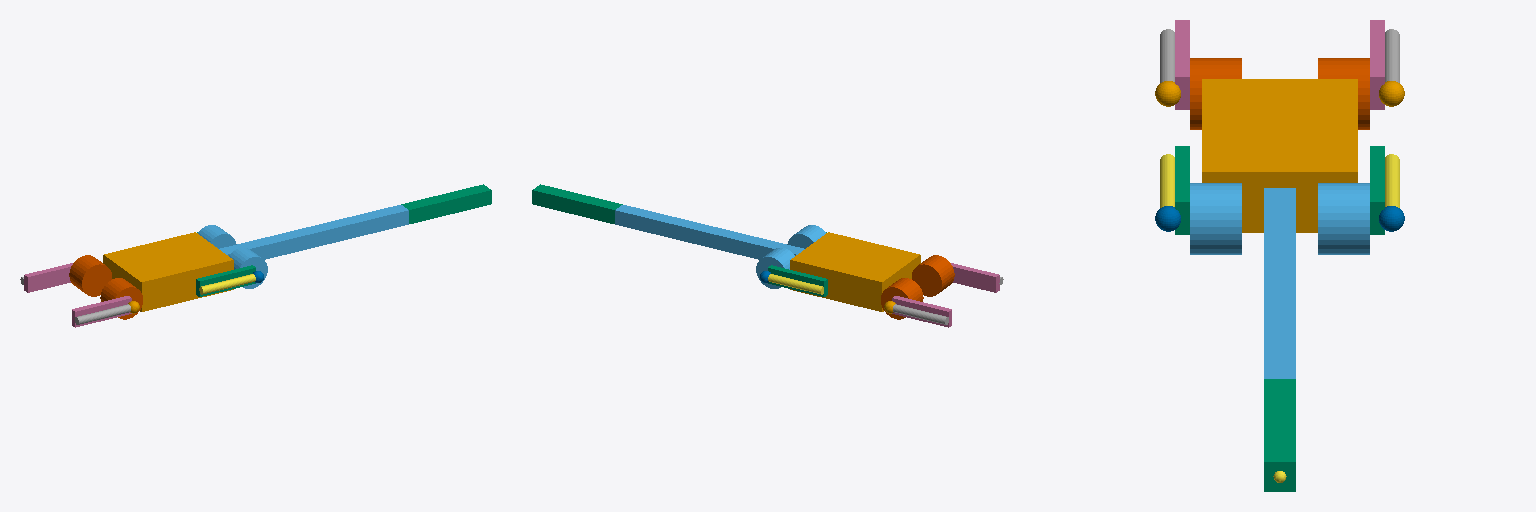
--- What the picture shows (computed from the rendered views, not written in the file) ---
3 views of the same robot in one strip: view 1: azimuth 30°, elevation 25°; view 2: azimuth 150°, elevation 25°; view 3: azimuth 270°, elevation 25° (orthographic).
Model spirit with 20 links and 19 joints (14 revolute, 5 fixed), rooted at body, posed all joints at 0.
Links seen in each view (by area): view 1: body, tail_link_0, tail_link_1, hip1, upper1, hip3, hip2, upper2, upper3, hip0; view 2: body, tail_link_0, tail_link_1, hip3, upper3, hip1, upper0, hip0, upper1, hip2; view 3: body, tail_link_0, hip0, hip2, tail_link_1, hip1, hip3, upper1, upper3, upper0, upper2, lower0 (+7 smaller).
Link boxes in pixels (x1,y1,x2,y2): body: (103, 232, 233, 311); tail_link_0: (219, 205, 408, 259); tail_link_1: (401, 184, 491, 223); hip1: (69, 255, 111, 296); upper1: (24, 263, 72, 292); hip3: (100, 278, 142, 319); hip2: (229, 248, 267, 288); upper2: (196, 265, 255, 296); upper3: (72, 296, 131, 327); hip0: (198, 225, 236, 248); body: (790, 232, 920, 311); tail_link_0: (615, 205, 804, 259); tail_link_1: (532, 184, 622, 223); hip3: (912, 255, 954, 296); upper3: (951, 263, 999, 292); hip1: (881, 278, 923, 319); upper0: (768, 265, 827, 296); hip0: (756, 248, 794, 288); upper1: (892, 296, 951, 327); hip2: (787, 225, 825, 248); body: (1202, 79, 1357, 232); tail_link_0: (1264, 188, 1295, 378); hip0: (1318, 183, 1369, 254); hip2: (1190, 183, 1241, 254); tail_link_1: (1264, 379, 1295, 491); hip1: (1318, 58, 1369, 129); hip3: (1190, 58, 1241, 129); upper1: (1370, 20, 1384, 109); upper3: (1175, 20, 1189, 109); upper0: (1370, 146, 1384, 234); upper2: (1175, 146, 1189, 234); lower0: (1385, 154, 1399, 207).
Bounding box of the posed robot: 1.6 × 0.382 × 0.11 m (x, y, z).
Geometry: primitives only (box / cylinder / sphere), no mesh files.

The robot description file, URDF, robot "spirit":
<?xml version="1.0" encoding="utf-8"?>
<!-- =================================================================================== -->
<!-- |    This document was autogenerated by xacro from working_gazebo.urdf.xacro      | -->
<!-- |    EDITING THIS FILE BY HAND IS NOT RECOMMENDED                                 | -->
<!-- =================================================================================== -->
<!-- 
MIT License (modified)

Copyright (c) 2020 Ghost Robotics
Authors:
Avik De <[email redacted]>
Tom Jacobs <[email redacted]>

Permission is hereby granted, free of charge, to any person obtaining a copy
of this **file** (the "Software"), to deal
in the Software without restriction, including without limitation the rights
to use, copy, modify, merge, publish, distribute, sublicense, and/or sell
copies of the Software, and to permit persons to whom the Software is
furnished to do so, subject to the following conditions:

The above copyright notice and this permission notice shall be included in all
copies or substantial portions of the Software.

THE SOFTWARE IS PROVIDED "AS IS", WITHOUT WARRANTY OF ANY KIND, EXPRESS OR
IMPLIED, INCLUDING BUT NOT LIMITED TO THE WARRANTIES OF MERCHANTABILITY,
FITNESS FOR A PARTICULAR PURPOSE AND NONINFRINGEMENT. IN NO EVENT SHALL THE
AUTHORS OR COPYRIGHT HOLDERS BE LIABLE FOR ANY CLAIM, DAMAGES OR OTHER
LIABILITY, WHETHER IN AN ACTION OF CONTRACT, TORT OR OTHERWISE, ARISING FROM,
OUT OF OR IN CONNECTION WITH THE SOFTWARE OR THE USE OR OTHER DEALINGS IN THE
SOFTWARE. 
-->
<robot name="spirit">
  <!-- Body -->
  <link name="body">
    <visual>
      <origin rpy="0 0 0" xyz="0 0 0"/>
      <geometry>
        <box size="0.335 0.24 0.104"/>
      </geometry>
      <material name="darkgray"/>
    </visual>
    <inertial>
      <mass value="5.75"/>
      <!-- Uniform box -->
      <!-- <inertia ixx="1/12*${bodyMass}*(${bodyWidth}*${bodyWidth} + ${bodyHeight}*${bodyHeight})"  ixy="0"  ixz="0" iyy="1/12*${bodyMass}*(${bodyLength}*${bodyLength} + ${bodyHeight}*${bodyHeight})" iyz="0" izz="1/12*${bodyMass}*(${bodyLength}*${bodyLength} + ${bodyWidth}*${bodyWidth})"/> -->
      <inertia ixx="0.05" ixy="0" ixz="0" iyy="0.1" iyz="0" izz="0.1"/>
    </inertial>
    <!-- Just copy geometry for collision -->
    <collision>
      <origin rpy="0 0 0" xyz="0 0 0"/>
      <geometry>
        <box size="0.335 0.24 0.104"/>
      </geometry>
    </collision>
  </link>
  <gazebo reference="body">
    <material>Gazebo/Black</material>
  </gazebo>
  <!-- Define our leg macro -->
  <!-- Hip motor -->
  <link name="hip0">
    <visual>
      <origin rpy="1.5707963268 0 0" xyz="0 0.028 0"/>
      <geometry>
        <cylinder length="0.08" radius="0.055"/>
      </geometry>
    </visual>
    <collision>
      <origin rpy="1.5707963268 0 0" xyz="0 0.028 0"/>
      <geometry>
        <cylinder length="0.08" radius="0.055"/>
      </geometry>
    </collision>
    <inertial>
      <mass value="0.575"/>
      <!-- <inertia ixx="1/12*${podMass}*${podLength}*${podLength} + 1/4*${podMass}*${podRadius}*${podRadius}"  ixy="0"  ixz="0" iyy="1/12*${podMass}*${podLength}*${podLength} + 1/4*${podMass}*${podRadius}*${podRadius}" iyz="0" izz="1/2*${podMass}*${podRadius}*$
				{podRadius}" /> -->
      <inertia ixx="0.00066963541" ixy="0" ixz="0" iyy="0.00066963541" iyz="0" izz="0.0008696875"/>
    </inertial>
  </link>
  <gazebo reference="hip0">
    <material>Gazebo/Grey</material>
  </gazebo>
  <!-- Abduction joint. Joint names are: 8 9 10 11 -->
  <joint name="8" type="revolute">
    <parent link="body"/>
    <child link="hip0"/>
    <axis xyz="1 0 0"/>
    <origin xyz="0.2263 0.07 0"/>
    <limit effort="40" lower="-0.707" upper="0.707" velocity="30"/>
    <dynamics damping="0.0" friction="0.0"/>
  </joint>
  <!-- Transmission elements required for Gazebo -->
  <transmission name="transmission_8">
    <type>transmission_interface/SimpleTransmission</type>
    <joint name="8">
      <hardwareInterface>hardware_interface/EffortJointInterface</hardwareInterface>
    </joint>
    <actuator name="motor_8">
      <hardwareInterface>EffortJointInterface</hardwareInterface>
      <mechanicalReduction>1</mechanicalReduction>
    </actuator>
  </transmission>
  <!-- Upper leg -->
  <link name="upper0">
    <visual>
      <origin rpy="0 0 0" xyz="-0.103 -0.022 0"/>
      <geometry>
        <box size="0.206 0.022 0.055"/>
      </geometry>
      <material name="silver"/>
    </visual>
    <collision>
      <origin rpy="0 0 0" xyz="-0.103 -0.022 0"/>
      <geometry>
        <box size="0.206 0.022 0.055"/>
      </geometry>
    </collision>
    <inertial>
      <mass value="0.775"/>
      <inertia ixx="5e-05" ixy="0" ixz="0" iyy="0.001" iyz="0" izz="0.001"/>
    </inertial>
  </link>
  <gazebo reference="upper0">
    <material>Gazebo/DarkGrey</material>
  </gazebo>
  <!-- Hip joint. (Motor to upper leg). Joint names are: 0 2 4 6 -->
  <joint name="0" type="revolute">
    <parent link="hip0"/>
    <child link="upper0"/>
    <axis xyz="0 -1 0"/>
    <origin xyz="0 0.10098 0"/>
    <!--  rpy="0 -0.3 0" -->
    <limit effort="40" lower="-6.28318530718" upper="6.28318530718" velocity="30"/>
    <dynamics damping="0.0" friction="0.0"/>
  </joint>
  <!-- Transmission elements required for Gazebo -->
  <transmission name="transmission_0">
    <type>transmission_interface/SimpleTransmission</type>
    <joint name="0">
      <hardwareInterface>hardware_interface/EffortJointInterface</hardwareInterface>
    </joint>
    <actuator name="motor_0">
      <hardwareInterface>EffortJointInterface</hardwareInterface>
      <mechanicalReduction>1</mechanicalReduction>
    </actuator>
  </transmission>
  <!-- Lower leg -->
  <link name="lower0">
    <visual>
      <origin rpy="0 1.5707963268 0" xyz="0.103 0 0"/>
      <geometry>
        <cylinder length="0.206" radius="0.013"/>
      </geometry>
      <material name="darkgray"/>
    </visual>
    <collision>
      <origin rpy="0 1.5707963268 0" xyz="0.103 0 0"/>
      <geometry>
        <cylinder length="0.206" radius="0.013"/>
      </geometry>
    </collision>
    <inertial>
      <mass value="0.075"/>
      <inertia ixx="5e-06" ixy="0" ixz="0" iyy="0.0001" iyz="0" izz="0.0001"/>
    </inertial>
  </link>
  <gazebo reference="lower0">
    <material>Gazebo/Grey</material>
  </gazebo>
  <!-- Knee joint. Joint names are: 1 3 5 7 -->
  <joint name="1" type="revolute">
    <parent link="upper0"/>
    <child link="lower0"/>
    <axis xyz="0 1 0"/>
    <origin xyz="-0.206 0 0"/>
    <!--rpy="0 0.5 0"-->
    <limit effort="40" lower="0" upper="3.14159265359" velocity="30"/>
    <dynamics damping="0.0" friction="0.0"/>
  </joint>
  <!-- Transmission elements required for Gazebo -->
  <transmission name="transmission_1">
    <type>transmission_interface/SimpleTransmission</type>
    <joint name="1">
      <hardwareInterface>hardware_interface/EffortJointInterface</hardwareInterface>
    </joint>
    <actuator name="motor_1">
      <hardwareInterface>EffortJointInterface</hardwareInterface>
      <mechanicalReduction>1</mechanicalReduction>
    </actuator>
  </transmission>
  <!-- Toe -->
  <link name="toe0">
    <contact>
      <friction_anchor/>
      <stiffness value="30000.0"/>
      <damping value="1000.0"/>
      <spinning_friction value="0.3"/>
      <lateral_friction value="50.0"/>
    </contact>
    <visual>
      <origin rpy="0 0 0" xyz="0 0 0"/>
      <geometry>
        <sphere radius="0.02"/>
      </geometry>
      <material name="darkgray"/>
    </visual>
    <collision>
      <origin rpy="0 0 0" xyz="0 0 0"/>
      <geometry>
        <sphere radius="0.02"/>
      </geometry>
    </collision>
    <inertial>
      <mass value="0.015"/>
      <inertia ixx="0.000025" ixy="0" ixz="0" iyy="0.000025" iyz="0" izz="0.000025"/>
      <!-- <inertia ixx="2/5*${toeMass}*${toeRadius}*${toeRadius}"  ixy="0"  ixz="0" iyy="2/5*${toeMass}*${toeRadius}*${toeRadius}" iyz="0" izz="2/5*${toeMass}*${toeRadius}*${toeRadius}" /> -->
    </inertial>
  </link>
  <gazebo reference="toe0">
    <material>Gazebo/Black</material>
    <collision>
      <surface>
        <bounce>
          <restitution_coefficient>0</restitution_coefficient>
          <threshold>1e+06</threshold>
        </bounce>
        <friction>
          <torsional>
            <coefficient>0.3</coefficient>
          </torsional>
          <ode>
            <mu>100.0</mu>
            <mu2>50.0</mu2>
          </ode>
          <bullet>
            <rolling_friction>0.3</rolling_friction>
            <friction2>50.0</friction2>
          </bullet>
        </friction>
        <contact>
          <bullet>
            <kp>30000.0</kp>
            <kd>1000.0</kd>
          </bullet>
          <ode>
            <kp>30000.0</kp>
            <kd>1000.0</kd>
          </ode>
        </contact>
      </surface>
    </collision>
  </gazebo>
  <joint name="jtoe0" type="fixed">
    <parent link="lower0"/>
    <child link="toe0"/>
    <origin xyz="0.206 0 -0.0"/>
    <dynamics damping="0.0" friction="0.0"/>
  </joint>
  <!-- Hip motor -->
  <link name="hip1">
    <visual>
      <origin rpy="1.5707963268 0 0" xyz="0 0.028 0"/>
      <geometry>
        <cylinder length="0.08" radius="0.055"/>
      </geometry>
    </visual>
    <collision>
      <origin rpy="1.5707963268 0 0" xyz="0 0.028 0"/>
      <geometry>
        <cylinder length="0.08" radius="0.055"/>
      </geometry>
    </collision>
    <inertial>
      <mass value="0.575"/>
      <!-- <inertia ixx="1/12*${podMass}*${podLength}*${podLength} + 1/4*${podMass}*${podRadius}*${podRadius}"  ixy="0"  ixz="0" iyy="1/12*${podMass}*${podLength}*${podLength} + 1/4*${podMass}*${podRadius}*${podRadius}" iyz="0" izz="1/2*${podMass}*${podRadius}*$
				{podRadius}" /> -->
      <inertia ixx="0.00066963541" ixy="0" ixz="0" iyy="0.00066963541" iyz="0" izz="0.0008696875"/>
    </inertial>
  </link>
  <gazebo reference="hip1">
    <material>Gazebo/Grey</material>
  </gazebo>
  <!-- Abduction joint. Joint names are: 8 9 10 11 -->
  <joint name="9" type="revolute">
    <parent link="body"/>
    <child link="hip1"/>
    <axis xyz="1 0 0"/>
    <origin xyz="-0.2263 0.07 0"/>
    <limit effort="40" lower="-0.707" upper="0.707" velocity="30"/>
    <dynamics damping="0.0" friction="0.0"/>
  </joint>
  <!-- Transmission elements required for Gazebo -->
  <transmission name="transmission_9">
    <type>transmission_interface/SimpleTransmission</type>
    <joint name="9">
      <hardwareInterface>hardware_interface/EffortJointInterface</hardwareInterface>
    </joint>
    <actuator name="motor_9">
      <hardwareInterface>EffortJointInterface</hardwareInterface>
      <mechanicalReduction>1</mechanicalReduction>
    </actuator>
  </transmission>
  <!-- Upper leg -->
  <link name="upper1">
    <visual>
      <origin rpy="0 0 0" xyz="-0.103 -0.022 0"/>
      <geometry>
        <box size="0.206 0.022 0.055"/>
      </geometry>
      <material name="silver"/>
    </visual>
    <collision>
      <origin rpy="0 0 0" xyz="-0.103 -0.022 0"/>
      <geometry>
        <box size="0.206 0.022 0.055"/>
      </geometry>
    </collision>
    <inertial>
      <mass value="0.775"/>
      <inertia ixx="5e-05" ixy="0" ixz="0" iyy="0.001" iyz="0" izz="0.001"/>
    </inertial>
  </link>
  <gazebo reference="upper1">
    <material>Gazebo/DarkGrey</material>
  </gazebo>
  <!-- Hip joint. (Motor to upper leg). Joint names are: 0 2 4 6 -->
  <joint name="2" type="revolute">
    <parent link="hip1"/>
    <child link="upper1"/>
    <axis xyz="0 -1 0"/>
    <origin xyz="0 0.10098 0"/>
    <!--  rpy="0 -0.3 0" -->
    <limit effort="40" lower="-6.28318530718" upper="6.28318530718" velocity="30"/>
    <dynamics damping="0.0" friction="0.0"/>
  </joint>
  <!-- Transmission elements required for Gazebo -->
  <transmission name="transmission_2">
    <type>transmission_interface/SimpleTransmission</type>
    <joint name="2">
      <hardwareInterface>hardware_interface/EffortJointInterface</hardwareInterface>
    </joint>
    <actuator name="motor_2">
      <hardwareInterface>EffortJointInterface</hardwareInterface>
      <mechanicalReduction>1</mechanicalReduction>
    </actuator>
  </transmission>
  <!-- Lower leg -->
  <link name="lower1">
    <visual>
      <origin rpy="0 1.5707963268 0" xyz="0.103 0 0"/>
      <geometry>
        <cylinder length="0.206" radius="0.013"/>
      </geometry>
      <material name="darkgray"/>
    </visual>
    <collision>
      <origin rpy="0 1.5707963268 0" xyz="0.103 0 0"/>
      <geometry>
        <cylinder length="0.206" radius="0.013"/>
      </geometry>
    </collision>
    <inertial>
      <mass value="0.075"/>
      <inertia ixx="5e-06" ixy="0" ixz="0" iyy="0.0001" iyz="0" izz="0.0001"/>
    </inertial>
  </link>
  <gazebo reference="lower1">
    <material>Gazebo/Grey</material>
  </gazebo>
  <!-- Knee joint. Joint names are: 1 3 5 7 -->
  <joint name="3" type="revolute">
    <parent link="upper1"/>
    <child link="lower1"/>
    <axis xyz="0 1 0"/>
    <origin xyz="-0.206 0 0"/>
    <!--rpy="0 0.5 0"-->
    <limit effort="40" lower="0" upper="3.14159265359" velocity="30"/>
    <dynamics damping="0.0" friction="0.0"/>
  </joint>
  <!-- Transmission elements required for Gazebo -->
  <transmission name="transmission_3">
    <type>transmission_interface/SimpleTransmission</type>
    <joint name="3">
      <hardwareInterface>hardware_interface/EffortJointInterface</hardwareInterface>
    </joint>
    <actuator name="motor_3">
      <hardwareInterface>EffortJointInterface</hardwareInterface>
      <mechanicalReduction>1</mechanicalReduction>
    </actuator>
  </transmission>
  <!-- Toe -->
  <link name="toe1">
    <contact>
      <friction_anchor/>
      <stiffness value="30000.0"/>
      <damping value="1000.0"/>
      <spinning_friction value="0.3"/>
      <lateral_friction value="50.0"/>
    </contact>
    <visual>
      <origin rpy="0 0 0" xyz="0 0 0"/>
      <geometry>
        <sphere radius="0.02"/>
      </geometry>
      <material name="darkgray"/>
    </visual>
    <collision>
      <origin rpy="0 0 0" xyz="0 0 0"/>
      <geometry>
        <sphere radius="0.02"/>
      </geometry>
    </collision>
    <inertial>
      <mass value="0.015"/>
      <inertia ixx="0.000025" ixy="0" ixz="0" iyy="0.000025" iyz="0" izz="0.000025"/>
      <!-- <inertia ixx="2/5*${toeMass}*${toeRadius}*${toeRadius}"  ixy="0"  ixz="0" iyy="2/5*${toeMass}*${toeRadius}*${toeRadius}" iyz="0" izz="2/5*${toeMass}*${toeRadius}*${toeRadius}" /> -->
    </inertial>
  </link>
  <gazebo reference="toe1">
    <material>Gazebo/Black</material>
    <collision>
      <surface>
        <bounce>
          <restitution_coefficient>0</restitution_coefficient>
          <threshold>1e+06</threshold>
        </bounce>
        <friction>
          <torsional>
            <coefficient>0.3</coefficient>
          </torsional>
          <ode>
            <mu>100.0</mu>
            <mu2>50.0</mu2>
          </ode>
          <bullet>
            <rolling_friction>0.3</rolling_friction>
            <friction2>50.0</friction2>
          </bullet>
        </friction>
        <contact>
          <bullet>
            <kp>30000.0</kp>
            <kd>1000.0</kd>
          </bullet>
          <ode>
            <kp>30000.0</kp>
            <kd>1000.0</kd>
          </ode>
        </contact>
      </surface>
    </collision>
  </gazebo>
  <joint name="jtoe1" type="fixed">
    <parent link="lower1"/>
    <child link="toe1"/>
    <origin xyz="0.206 0 -0.0"/>
    <dynamics damping="0.0" friction="0.0"/>
  </joint>
  <!-- Hip motor -->
  <link name="hip2">
    <visual>
      <origin rpy="1.5707963268 0 0" xyz="0 -0.028 0"/>
      <geometry>
        <cylinder length="0.08" radius="0.055"/>
      </geometry>
    </visual>
    <collision>
      <origin rpy="1.5707963268 0 0" xyz="0 -0.028 0"/>
      <geometry>
        <cylinder length="0.08" radius="0.055"/>
      </geometry>
    </collision>
    <inertial>
      <mass value="0.575"/>
      <!-- <inertia ixx="1/12*${podMass}*${podLength}*${podLength} + 1/4*${podMass}*${podRadius}*${podRadius}"  ixy="0"  ixz="0" iyy="1/12*${podMass}*${podLength}*${podLength} + 1/4*${podMass}*${podRadius}*${podRadius}" iyz="0" izz="1/2*${podMass}*${podRadius}*$
				{podRadius}" /> -->
      <inertia ixx="0.00066963541" ixy="0" ixz="0" iyy="0.00066963541" iyz="0" izz="0.0008696875"/>
    </inertial>
  </link>
  <gazebo reference="hip2">
    <material>Gazebo/Grey</material>
  </gazebo>
  <!-- Abduction joint. Joint names are: 8 9 10 11 -->
  <joint name="10" type="revolute">
    <parent link="body"/>
    <child link="hip2"/>
    <axis xyz="1 0 0"/>
    <origin xyz="0.2263 -0.07 0"/>
    <limit effort="40" lower="-0.707" upper="0.707" velocity="30"/>
    <dynamics damping="0.0" friction="0.0"/>
  </joint>
  <!-- Transmission elements required for Gazebo -->
  <transmission name="transmission_10">
    <type>transmission_interface/SimpleTransmission</type>
    <joint name="10">
      <hardwareInterface>hardware_interface/EffortJointInterface</hardwareInterface>
    </joint>
    <actuator name="motor_10">
      <hardwareInterface>EffortJointInterface</hardwareInterface>
      <mechanicalReduction>1</mechanicalReduction>
    </actuator>
  </transmission>
  <!-- Upper leg -->
  <link name="upper2">
    <visual>
      <origin rpy="0 0 0" xyz="-0.103 0.022 0"/>
      <geometry>
        <box size="0.206 0.022 0.055"/>
      </geometry>
      <material name="silver"/>
    </visual>
    <collision>
      <origin rpy="0 0 0" xyz="-0.103 0.022 0"/>
      <geometry>
        <box size="0.206 0.022 0.055"/>
      </geometry>
    </collision>
    <inertial>
      <mass value="0.775"/>
      <inertia ixx="5e-05" ixy="0" ixz="0" iyy="0.001" iyz="0" izz="0.001"/>
    </inertial>
  </link>
  <gazebo reference="upper2">
    <material>Gazebo/DarkGrey</material>
  </gazebo>
  <!-- Hip joint. (Motor to upper leg). Joint names are: 0 2 4 6 -->
  <joint name="4" type="revolute">
    <parent link="hip2"/>
    <child link="upper2"/>
    <axis xyz="0 -1 0"/>
    <origin xyz="0 -0.10098 0"/>
    <!--  rpy="0 -0.3 0" -->
    <limit effort="40" lower="-6.28318530718" upper="6.28318530718" velocity="30"/>
    <dynamics damping="0.0" friction="0.0"/>
  </joint>
  <!-- Transmission elements required for Gazebo -->
  <transmission name="transmission_4">
    <type>transmission_interface/SimpleTransmission</type>
    <joint name="4">
      <hardwareInterface>hardware_interface/EffortJointInterface</hardwareInterface>
    </joint>
    <actuator name="motor_4">
      <hardwareInterface>EffortJointInterface</hardwareInterface>
      <mechanicalReduction>1</mechanicalReduction>
    </actuator>
  </transmission>
  <!-- Lower leg -->
  <link name="lower2">
    <visual>
      <origin rpy="0 1.5707963268 0" xyz="0.103 0 0"/>
      <geometry>
        <cylinder length="0.206" radius="0.013"/>
      </geometry>
      <material name="darkgray"/>
    </visual>
    <collision>
      <origin rpy="0 1.5707963268 0" xyz="0.103 0 0"/>
      <geometry>
        <cylinder length="0.206" radius="0.013"/>
      </geometry>
    </collision>
    <inertial>
      <mass value="0.075"/>
      <inertia ixx="5e-06" ixy="0" ixz="0" iyy="0.0001" iyz="0" izz="0.0001"/>
    </inertial>
  </link>
  <gazebo reference="lower2">
    <material>Gazebo/Grey</material>
  </gazebo>
  <!-- Knee joint. Joint names are: 1 3 5 7 -->
  <joint name="5" type="revolute">
    <parent link="upper2"/>
    <child link="lower2"/>
    <axis xyz="0 1 0"/>
    <origin xyz="-0.206 0 0"/>
    <!--rpy="0 0.5 0"-->
    <limit effort="40" lower="0" upper="3.14159265359" velocity="30"/>
    <dynamics damping="0.0" friction="0.0"/>
  </joint>
  <!-- Transmission elements required for Gazebo -->
  <transmission name="transmission_5">
    <type>transmission_interface/SimpleTransmission</type>
    <joint name="5">
      <hardwareInterface>hardware_interface/EffortJointInterface</hardwareInterface>
    </joint>
    <actuator name="motor_5">
      <hardwareInterface>EffortJointInterface</hardwareInterface>
      <mechanicalReduction>1</mechanicalReduction>
    </actuator>
  </transmission>
  <!-- Toe -->
  <link name="toe2">
    <contact>
      <friction_anchor/>
      <stiffness value="30000.0"/>
      <damping value="1000.0"/>
      <spinning_friction value="0.3"/>
      <lateral_friction value="50.0"/>
    </contact>
    <visual>
      <origin rpy="0 0 0" xyz="0 0 0"/>
      <geometry>
        <sphere radius="0.02"/>
      </geometry>
      <material name="darkgray"/>
    </visual>
    <collision>
      <origin rpy="0 0 0" xyz="0 0 0"/>
      <geometry>
        <sphere radius="0.02"/>
      </geometry>
    </collision>
    <inertial>
      <mass value="0.015"/>
      <inertia ixx="0.000025" ixy="0" ixz="0" iyy="0.000025" iyz="0" izz="0.000025"/>
      <!-- <inertia ixx="2/5*${toeMass}*${toeRadius}*${toeRadius}"  ixy="0"  ixz="0" iyy="2/5*${toeMass}*${toeRadius}*${toeRadius}" iyz="0" izz="2/5*${toeMass}*${toeRadius}*${toeRadius}" /> -->
    </inertial>
  </link>
  <gazebo reference="toe2">
    <material>Gazebo/Black</material>
    <collision>
      <surface>
        <bounce>
          <restitution_coefficient>0</restitution_coefficient>
          <threshold>1e+06</threshold>
        </bounce>
        <friction>
          <torsional>
            <coefficient>0.3</coefficient>
          </torsional>
          <ode>
            <mu>100.0</mu>
            <mu2>50.0</mu2>
          </ode>
          <bullet>
            <rolling_friction>0.3</rolling_friction>
            <friction2>50.0</friction2>
          </bullet>
        </friction>
        <contact>
          <bullet>
            <kp>30000.0</kp>
            <kd>1000.0</kd>
          </bullet>
          <ode>
            <kp>30000.0</kp>
            <kd>1000.0</kd>
          </ode>
        </contact>
      </surface>
    </collision>
  </gazebo>
  <joint name="jtoe2" type="fixed">
    <parent link="lower2"/>
    <child link="toe2"/>
    <origin xyz="0.206 0 -0.0"/>
    <dynamics damping="0.0" friction="0.0"/>
  </joint>
  <!-- Hip motor -->
  <link name="hip3">
    <visual>
      <origin rpy="1.5707963268 0 0" xyz="0 -0.028 0"/>
      <geometry>
        <cylinder length="0.08" radius="0.055"/>
      </geometry>
    </visual>
    <collision>
      <origin rpy="1.5707963268 0 0" xyz="0 -0.028 0"/>
      <geometry>
        <cylinder length="0.08" radius="0.055"/>
      </geometry>
    </collision>
    <inertial>
      <mass value="0.575"/>
      <!-- <inertia ixx="1/12*${podMass}*${podLength}*${podLength} + 1/4*${podMass}*${podRadius}*${podRadius}"  ixy="0"  ixz="0" iyy="1/12*${podMass}*${podLength}*${podLength} + 1/4*${podMass}*${podRadius}*${podRadius}" iyz="0" izz="1/2*${podMass}*${podRadius}*$
				{podRadius}" /> -->
      <inertia ixx="0.00066963541" ixy="0" ixz="0" iyy="0.00066963541" iyz="0" izz="0.0008696875"/>
    </inertial>
  </link>
  <gazebo reference="hip3">
    <material>Gazebo/Grey</material>
  </gazebo>
  <!-- Abduction joint. Joint names are: 8 9 10 11 -->
  <joint name="11" type="revolute">
    <parent link="body"/>
    <child link="hip3"/>
    <axis xyz="1 0 0"/>
    <origin xyz="-0.2263 -0.07 0"/>
    <limit effort="40" lower="-0.707" upper="0.707" velocity="30"/>
    <dynamics damping="0.0" friction="0.0"/>
  </joint>
  <!-- Transmission elements required for Gazebo -->
  <transmission name="transmission_11">
    <type>transmission_interface/SimpleTransmission</type>
    <joint name="11">
      <hardwareInterface>hardware_interface/EffortJointInterface</hardwareInterface>
    </joint>
    <actuator name="motor_11">
      <hardwareInterface>EffortJointInterface</hardwareInterface>
      <mechanicalReduction>1</mechanicalReduction>
    </actuator>
  </transmission>
  <!-- Upper leg -->
  <link name="upper3">
    <visual>
      <origin rpy="0 0 0" xyz="-0.103 0.022 0"/>
      <geometry>
        <box size="0.206 0.022 0.055"/>
      </geometry>
      <material name="silver"/>
    </visual>
    <collision>
      <origin rpy="0 0 0" xyz="-0.103 0.022 0"/>
      <geometry>
        <box size="0.206 0.022 0.055"/>
      </geometry>
    </collision>
    <inertial>
      <mass value="0.775"/>
      <inertia ixx="5e-05" ixy="0" ixz="0" iyy="0.001" iyz="0" izz="0.001"/>
    </inertial>
  </link>
  <gazebo reference="upper3">
    <material>Gazebo/DarkGrey</material>
  </gazebo>
  <!-- Hip joint. (Motor to upper leg). Joint names are: 0 2 4 6 -->
  <joint name="6" type="revolute">
    <parent link="hip3"/>
    <child link="upper3"/>
    <axis xyz="0 -1 0"/>
    <origin xyz="0 -0.10098 0"/>
    <!--  rpy="0 -0.3 0" -->
    <limit effort="40" lower="-6.28318530718" upper="6.28318530718" velocity="30"/>
    <dynamics damping="0.0" friction="0.0"/>
  </joint>
  <!-- Transmission elements required for Gazebo -->
  <transmission name="transmission_6">
    <type>transmission_interface/SimpleTransmission</type>
    <joint name="6">
      <hardwareInterface>hardware_interface/EffortJointInterface</hardwareInterface>
    </joint>
    <actuator name="motor_6">
      <hardwareInterface>EffortJointInterface</hardwareInterface>
      <mechanicalReduction>1</mechanicalReduction>
    </actuator>
  </transmission>
  <!-- Lower leg -->
  <link name="lower3">
    <visual>
      <origin rpy="0 1.5707963268 0" xyz="0.103 0 0"/>
      <geometry>
        <cylinder length="0.206" radius="0.013"/>
      </geometry>
      <material name="darkgray"/>
    </visual>
    <collision>
      <origin rpy="0 1.5707963268 0" xyz="0.103 0 0"/>
      <geometry>
        <cylinder length="0.206" radius="0.013"/>
      </geometry>
    </collision>
    <inertial>
      <mass value="0.075"/>
      <inertia ixx="5e-06" ixy="0" ixz="0" iyy="0.0001" iyz="0" izz="0.0001"/>
    </inertial>
  </link>
  <gazebo reference="lower3">
    <material>Gazebo/Grey</material>
  </gazebo>
  <!-- Knee joint. Joint names are: 1 3 5 7 -->
  <joint name="7" type="revolute">
    <parent link="upper3"/>
    <child link="lower3"/>
    <axis xyz="0 1 0"/>
    <origin xyz="-0.206 0 0"/>
    <!--rpy="0 0.5 0"-->
    <limit effort="40" lower="0" upper="3.14159265359" velocity="30"/>
    <dynamics damping="0.0" friction="0.0"/>
  </joint>
  <!-- Transmission elements required for Gazebo -->
  <transmission name="transmission_7">
    <type>transmission_interface/SimpleTransmission</type>
    <joint name="7">
      <hardwareInterface>hardware_interface/EffortJointInterface</hardwareInterface>
    </joint>
    <actuator name="motor_7">
      <hardwareInterface>EffortJointInterface</hardwareInterface>
      <mechanicalReduction>1</mechanicalReduction>
    </actuator>
  </transmission>
  <!-- Toe -->
  <link name="toe3">
    <contact>
      <friction_anchor/>
      <stiffness value="30000.0"/>
      <damping value="1000.0"/>
      <spinning_friction value="0.3"/>
      <lateral_friction value="50.0"/>
    </contact>
    <visual>
      <origin rpy="0 0 0" xyz="0 0 0"/>
      <geometry>
        <sphere radius="0.02"/>
      </geometry>
      <material name="darkgray"/>
    </visual>
    <collision>
      <origin rpy="0 0 0" xyz="0 0 0"/>
      <geometry>
        <sphere radius="0.02"/>
      </geometry>
    </collision>
    <inertial>
      <mass value="0.015"/>
      <inertia ixx="0.000025" ixy="0" ixz="0" iyy="0.000025" iyz="0" izz="0.000025"/>
      <!-- <inertia ixx="2/5*${toeMass}*${toeRadius}*${toeRadius}"  ixy="0"  ixz="0" iyy="2/5*${toeMass}*${toeRadius}*${toeRadius}" iyz="0" izz="2/5*${toeMass}*${toeRadius}*${toeRadius}" /> -->
    </inertial>
  </link>
  <gazebo reference="toe3">
    <material>Gazebo/Black</material>
    <collision>
      <surface>
        <bounce>
          <restitution_coefficient>0</restitution_coefficient>
          <threshold>1e+06</threshold>
        </bounce>
        <friction>
          <torsional>
            <coefficient>0.3</coefficient>
          </torsional>
          <ode>
            <mu>100.0</mu>
            <mu2>50.0</mu2>
          </ode>
          <bullet>
            <rolling_friction>0.3</rolling_friction>
            <friction2>50.0</friction2>
          </bullet>
        </friction>
        <contact>
          <bullet>
            <kp>30000.0</kp>
            <kd>1000.0</kd>
          </bullet>
          <ode>
            <kp>30000.0</kp>
            <kd>1000.0</kd>
          </ode>
        </contact>
      </surface>
    </collision>
  </gazebo>
  <joint name="jtoe3" type="fixed">
    <parent link="lower3"/>
    <child link="toe3"/>
    <origin xyz="0.206 0 -0.0"/>
    <dynamics damping="0.0" friction="0.0"/>
  </joint>
  <!--    CUSTOMIZED SECTIONS BELOW. NOT FROM GHOST ROBOTICS.    -->
  <!-- Neck or tail-->
  <link name="tail_link_0">
    <visual>
      <origin rpy="0 0 0" xyz="0.35 0 0"/>
      <geometry>
        <box size="0.7 0.05 0.05"/>
      </geometry>
      <material name="darkgray"/>
    </visual>
    <inertial>
      <origin rpy="0 0 0" xyz="0.35 0 0"/>
      <mass value="0.000175"/>
      <inertia ixx="0" ixy="0" ixz="0" iyy="0" iyz="0" izz="0"/>
    </inertial>
    <!-- Just copy geometry for collision -->
    <!-- <collision>
		<origin rpy="0 0 0" xyz="${0.5*neckLength1} 0 0"/>
			<geometry>
				<box size="${neckLength1} ${neckWidth} ${neckHeight}"/>
			</geometry>
		</collision> -->
  </link>
  <gazebo reference="tail_link_0">
    <material>Gazebo/Gray</material>
  </gazebo>
  <link name="tail_link_1">
    <visual>
      <origin rpy="0 0 0" xyz="0.15 0 0"/>
      <geometry>
        <box size="0.3 0.05 0.05"/>
      </geometry>
      <material name="darkgray"/>
    </visual>
    <inertial>
      <origin rpy="0 0 0" xyz="0.15 0 0"/>
      <mass value="7.5e-05"/>
      <inertia ixx="0.05" ixy="0" ixz="0" iyy="0.1" iyz="0" izz="0.1"/>
    </inertial>
    <!-- Just copy geometry for collision -->
    <!-- <collision>
		<origin rpy="0 0 0" xyz="${0.5*neckLength2} 0 0"/>
			<geometry>
				<box size="${neckLength2} ${neckWidth} ${neckHeight}"/>
			</geometry>
		</collision> -->
  </link>
  <gazebo reference="tail_link_1">
    <material>Gazebo/Gray</material>
  </gazebo>
  <link name="tail_mass">
    <visual>
      <origin rpy="0 0 0" xyz="0 0 0"/>
      <geometry>
        <sphere radius="0.01"/>
      </geometry>
      <material name="gray"/>
    </visual>
    <inertial>
      <origin rpy="0 0 0" xyz="0 0 0"/>
      <mass value="0.1"/>
      <inertia ixx="0" ixy="0" ixz="0" iyy="0" iyz="0" izz="0"/>
    </inertial>
    <collision>
      <origin rpy="0 0 0" xyz="0 0 0"/>
      <geometry>
        <box size="0.1 0.1 0.1"/>
      </geometry>
    </collision>
  </link>
  <gazebo reference="tail_mass">
    <material>Gazebo/Gray</material>
  </gazebo>
  <joint name="body_tail_joint_0" type="revolute">
    <parent link="body"/>
    <child link="tail_link_0"/>
    <axis xyz="0 1 0"/>
    <origin xyz="0.16 0 0"/>
    <limit effort="35" lower="-1.57" upper="1.57" velocity="1000000"/>
    <dynamics damping="0.0" friction="0.0"/>
  </joint>
  <!-- Transmission elements required for Gazebo -->
  <transmission name="transmission_body_tail_joint_0">
    <type>transmission_interface/SimpleTransmission</type>
    <joint name="body_tail_joint_0">
      <hardwareInterface>hardware_interface/EffortJointInterface</hardwareInterface>
    </joint>
    <actuator name="motor_body_tail_joint_0">
      <hardwareInterface>EffortJointInterface</hardwareInterface>
      <mechanicalReduction>1</mechanicalReduction>
    </actuator>
  </transmission>
  <joint name="body_tail_joint_1" type="revolute">
    <parent link="tail_link_0"/>
    <child link="tail_link_1"/>
    <axis xyz="0 1 0"/>
    <origin xyz="0.7 0 0"/>
    <limit effort="35" lower="-1.57" upper="1.57" velocity="1000000"/>
    <dynamics damping="0.0" friction="0.0"/>
  </joint>
  <!-- Transmission elements required for Gazebo -->
  <transmission name="transmission_body_tail_joint_1">
    <type>transmission_interface/SimpleTransmission</type>
    <joint name="body_tail_joint_1">
      <hardwareInterface>hardware_interface/EffortJointInterface</hardwareInterface>
    </joint>
    <actuator name="motor_body_tail_joint_1">
      <hardwareInterface>EffortJointInterface</hardwareInterface>
      <mechanicalReduction>1</mechanicalReduction>
    </actuator>
  </transmission>
  <joint name="tail_link_mass_joint" type="fixed">
    <parent link="tail_link_1"/>
    <child link="tail_mass"/>
    <origin xyz="0.3 0 0 "/>
    <dynamics damping="0.0" friction="0.0"/>
  </joint>
  <!--    CUSTOMIZED SECTIONS	ABOVE. NOT FROM GHOST ROBOTICS.    -->
  <!-- Add ros_control plugin -->
  <!-- <gazebo>
  		<plugin name="gazebo_ros_control" filename="libgazebo_ros_control.so">
    		<robotNamespace>/spirit</robotNamespace>
  		</plugin>
	</gazebo> -->
</robot>
